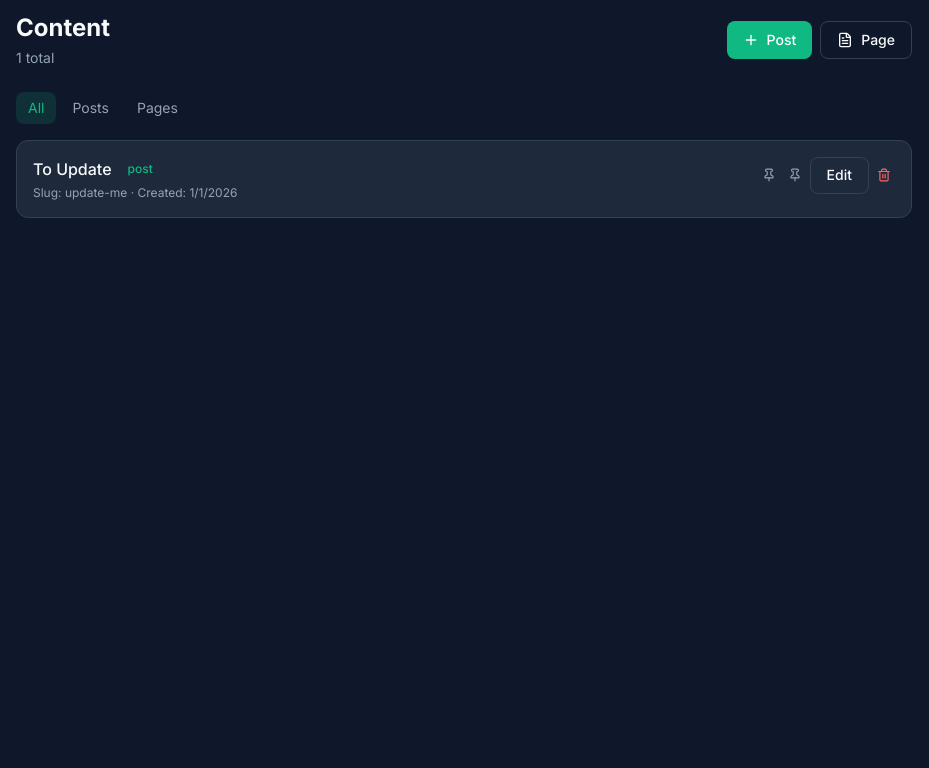
Scenario: Content settings page › edit content › closes form after successful update
The image size is (929, 768).
Expected: the text "To Update" is shown, [33,157,112,181]
What coordinates should you click on to do the following:
click the button "Edit"
I would click on:
 (839, 175)
Its box is [810,157,869,194].
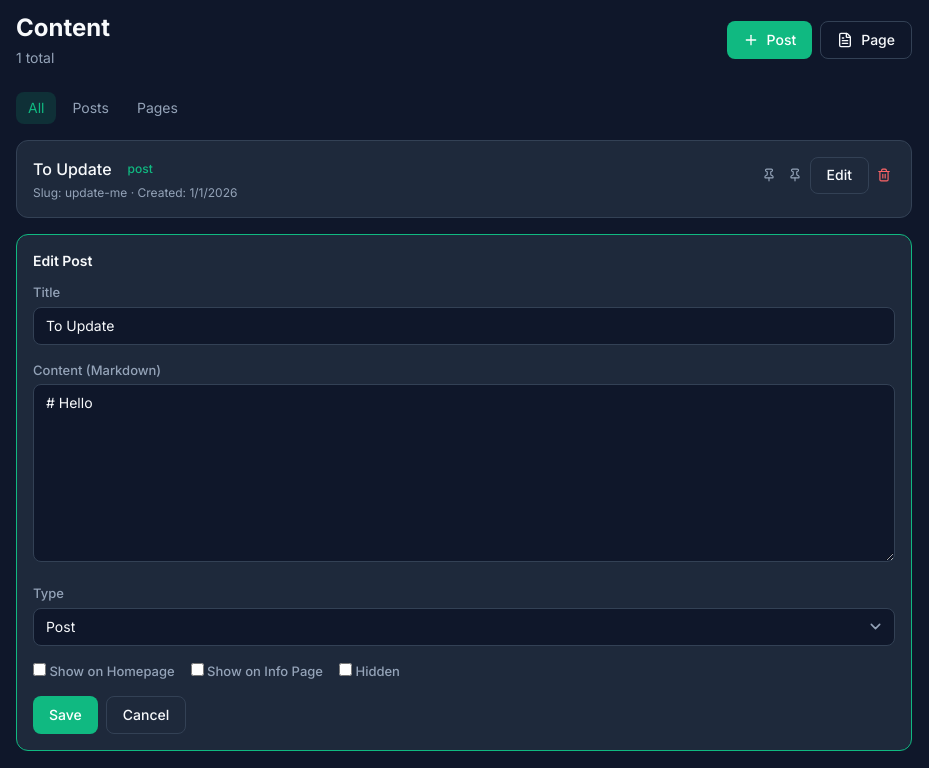
Now the heading "Edit Post" is shown, box [33,252,92,269]
What coordinates should you click on to do the following:
click the button "Save"
I would click on:
 (65, 715)
Its box is [33,696,98,734].
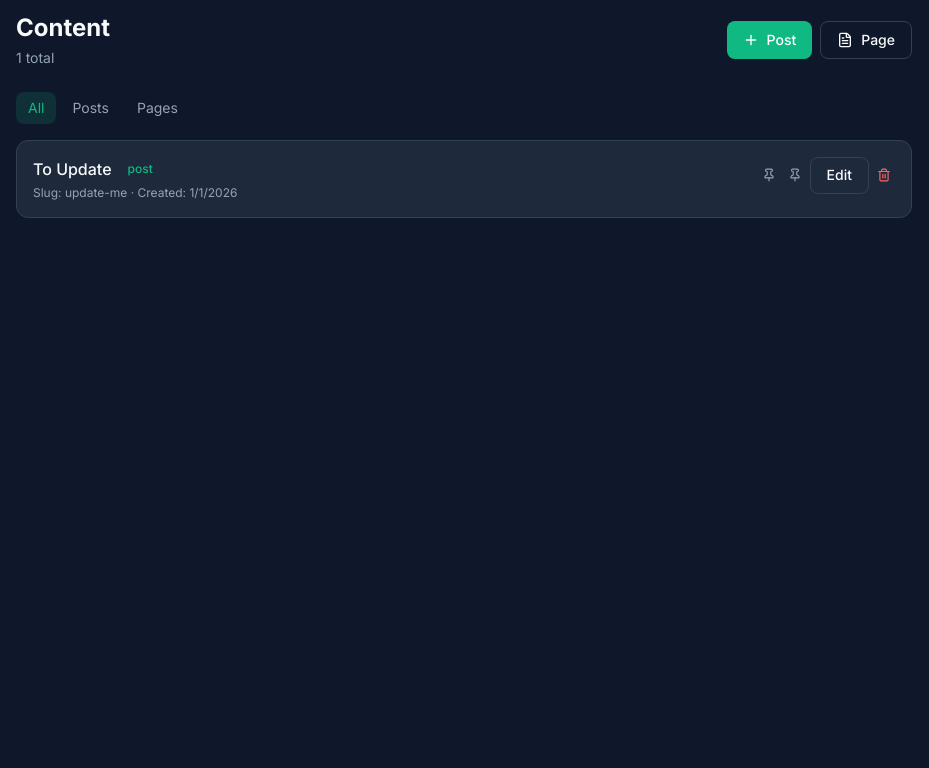
Now the heading "Edit Post" is gone
